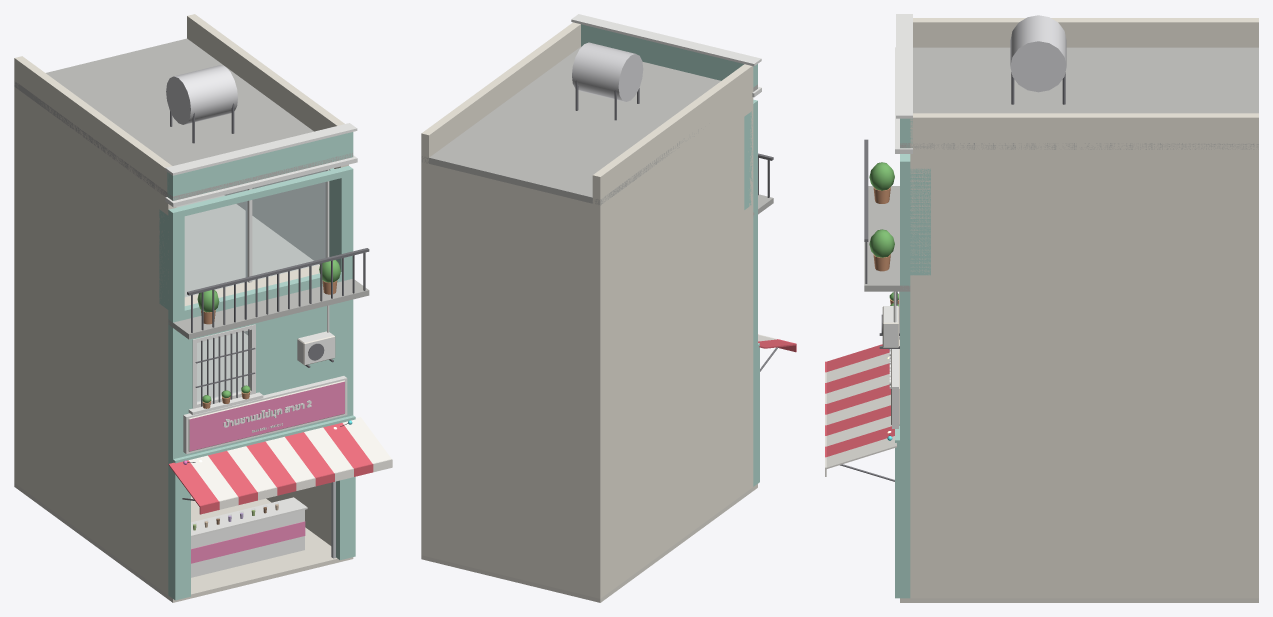
File: SM_Shop_Branch2.fbx
3 renders of one model, left to right at view 1: azimuth 30°, elevation 25°; view 2: azimuth 150°, elevation 25°; view 3: azimuth 270°, elevation 25°, orthographic. The views are drawn at different scales.
Parts seen in each view (by area): view 1: SM_Shop_Branch2; view 2: SM_Shop_Branch2; view 3: SM_Shop_Branch2.
Boxes of the visible parts, <box> form: SM_Shop_Branch2: <box>14,14,392,602</box>; SM_Shop_Branch2: <box>421,14,796,602</box>; SM_Shop_Branch2: <box>825,14,1258,602</box>.
Size of the model in its own units: 4.9 by 11.3 by 8.47.
